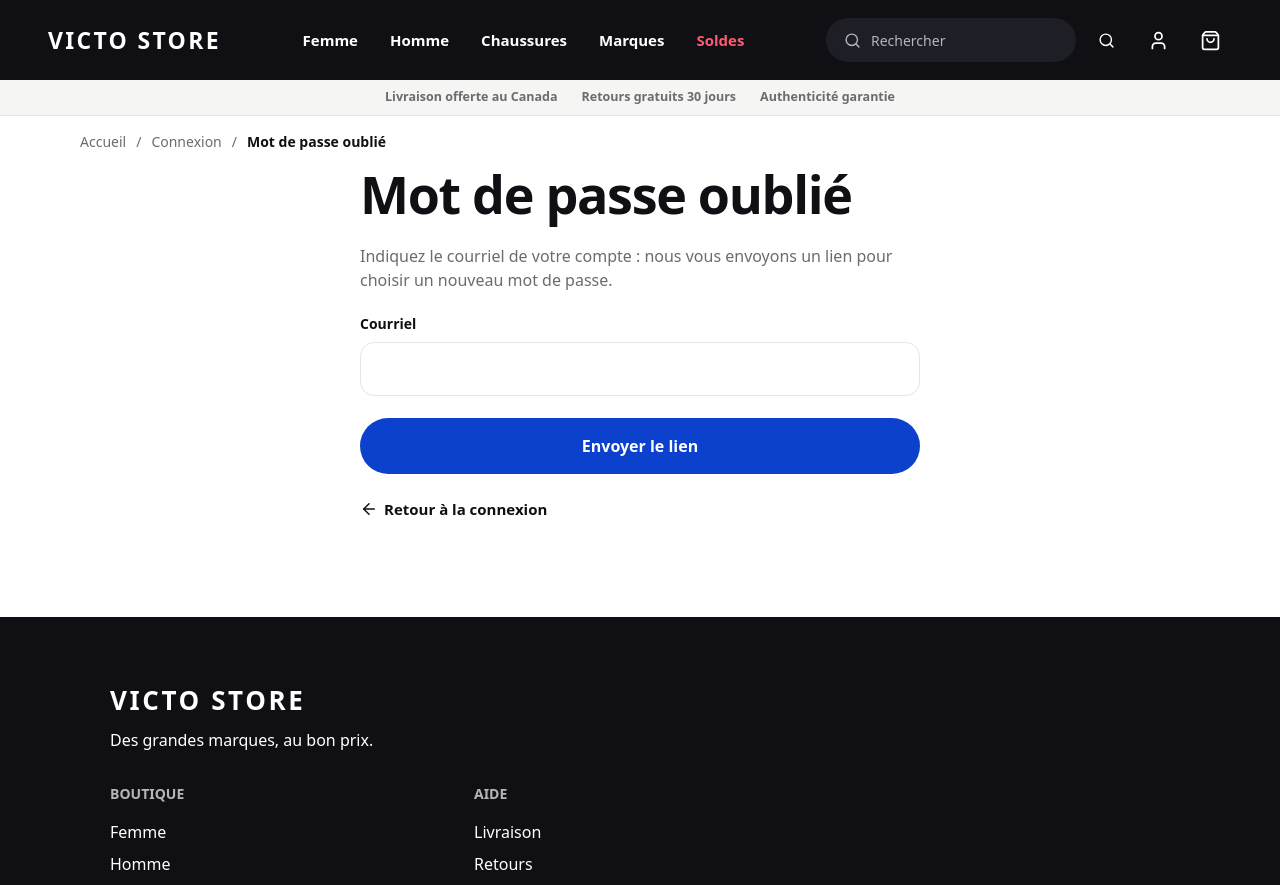
it: page mot de passe oublié › refuse un courriel invalide
The image size is (1280, 885).
Type "pas un courriel" into the field labelled "Courriel" at (640, 369), box [360, 342, 920, 396]
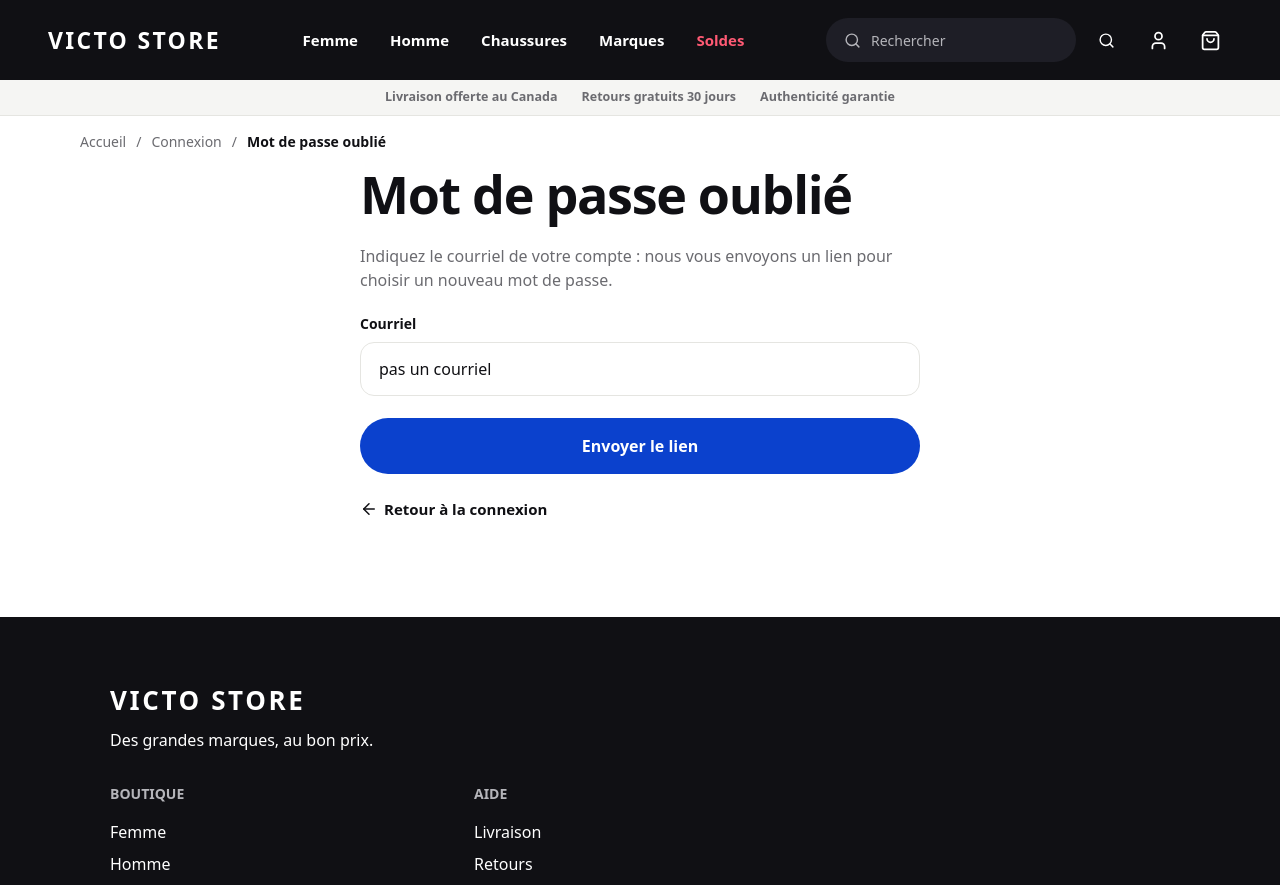
Click the button "Envoyer le lien" at (640, 446), box [360, 418, 920, 474]
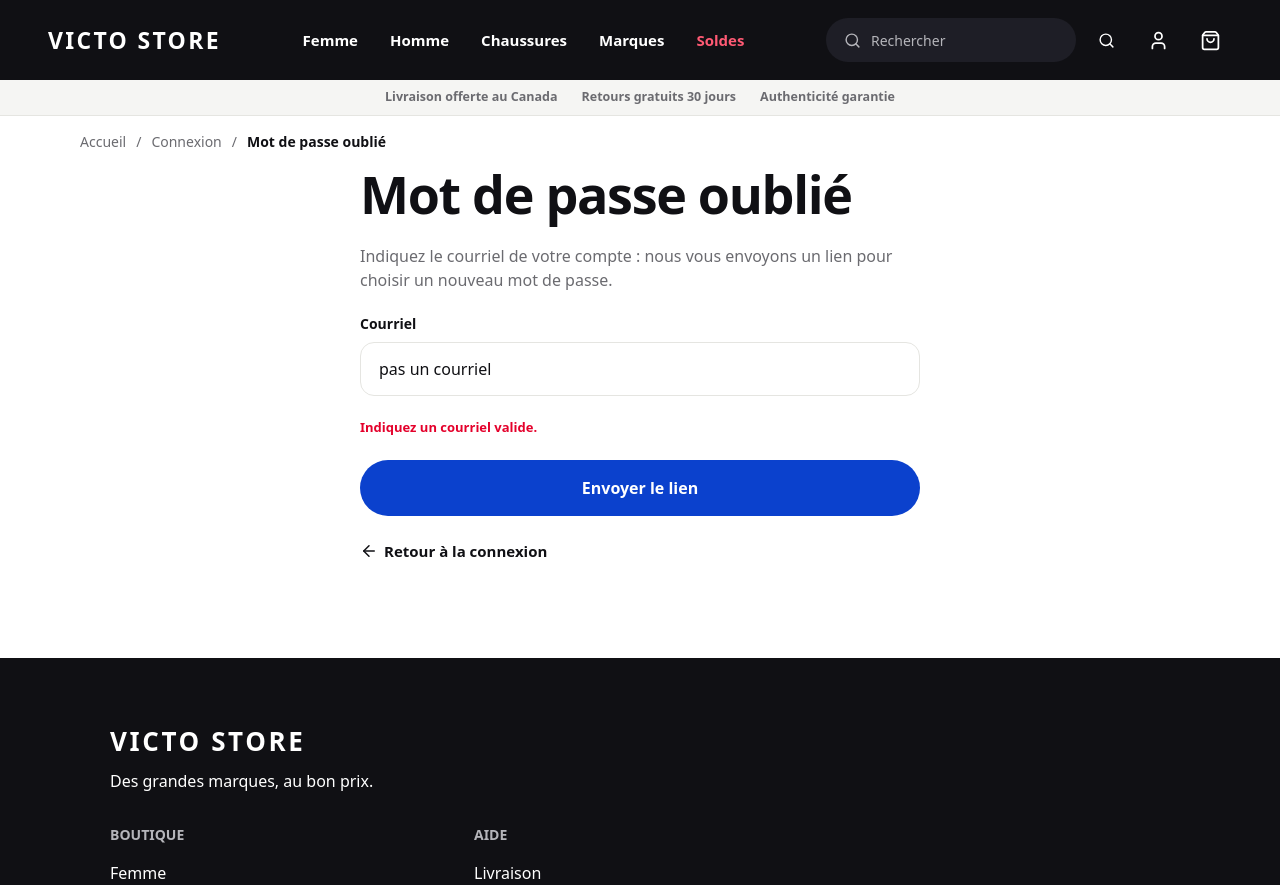
Expected: the message reads "Indiquez un courriel valide.", [360, 418, 537, 436]
